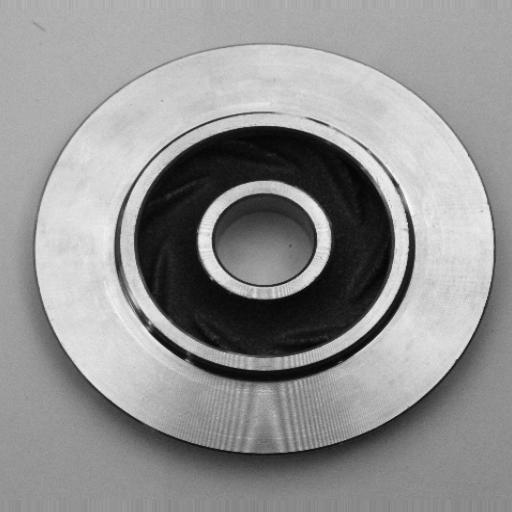unpolished_casting: (32, 41, 497, 461)
